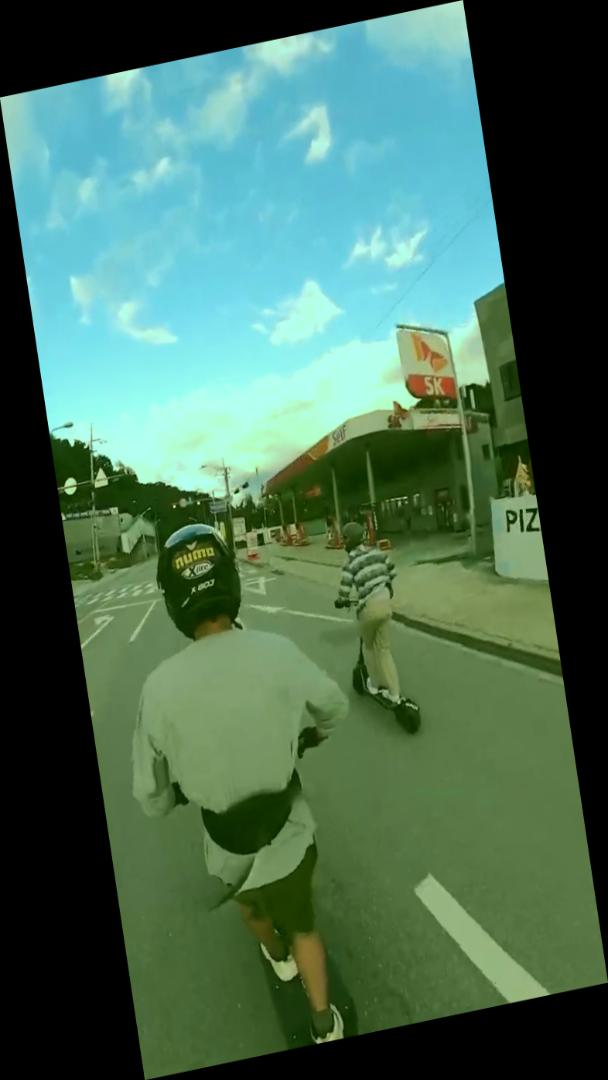helmet: (95, 494, 399, 1074), (322, 510, 428, 749)
